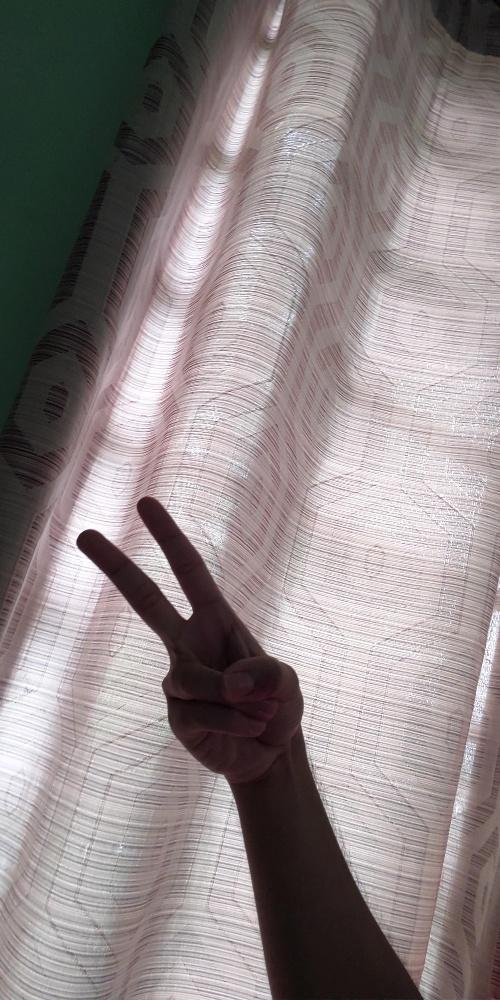v: (73, 491, 304, 781)
